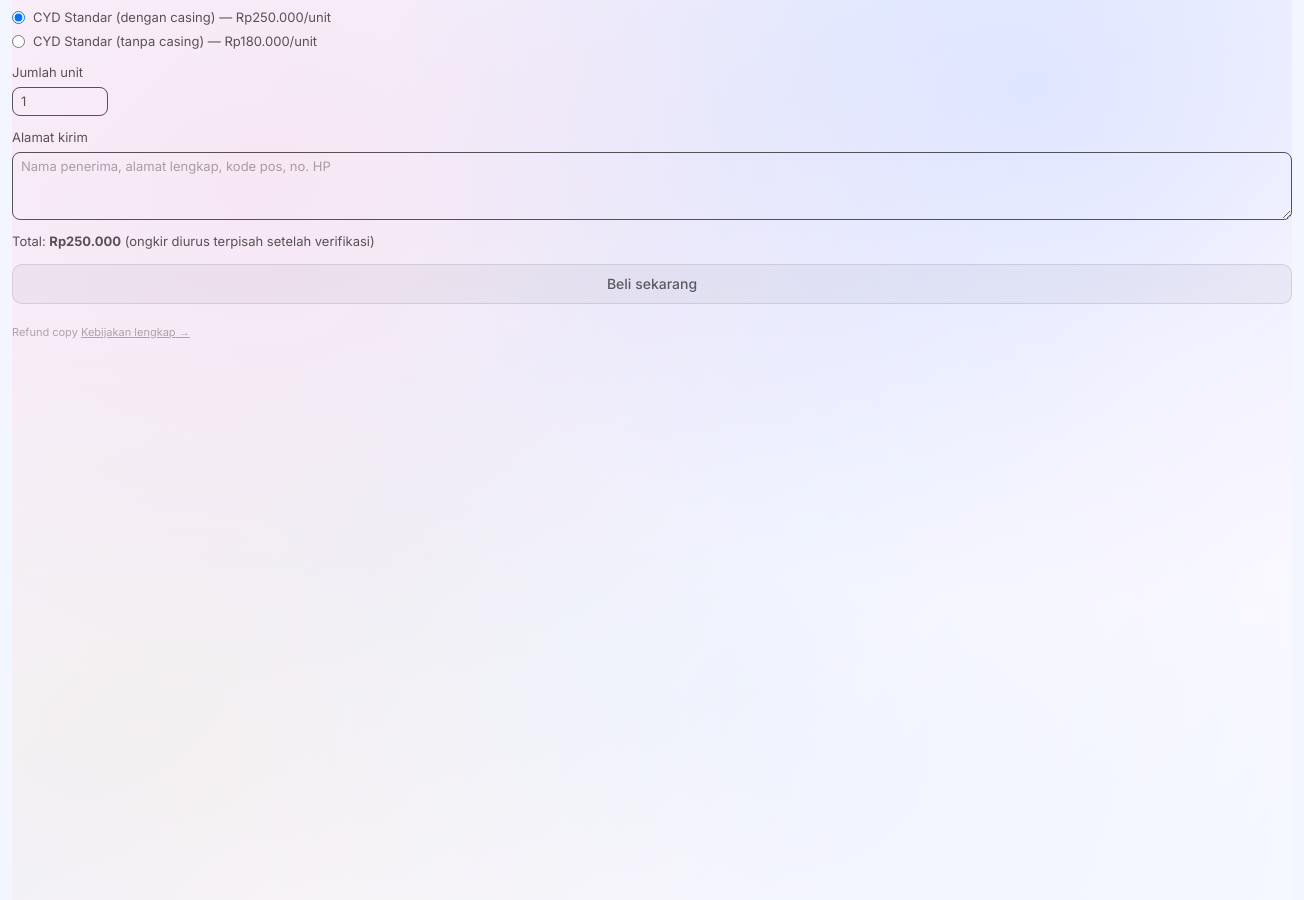
BeliCydCheckout › computes the live total from the selected variant and quantity
This screenshot has width=1304, height=900.
Step 1. Click the radio button labelled "CYD Standar (tanpa casing) — Rp180.000/unit" → [18, 41], box 12,35 -> 25,48
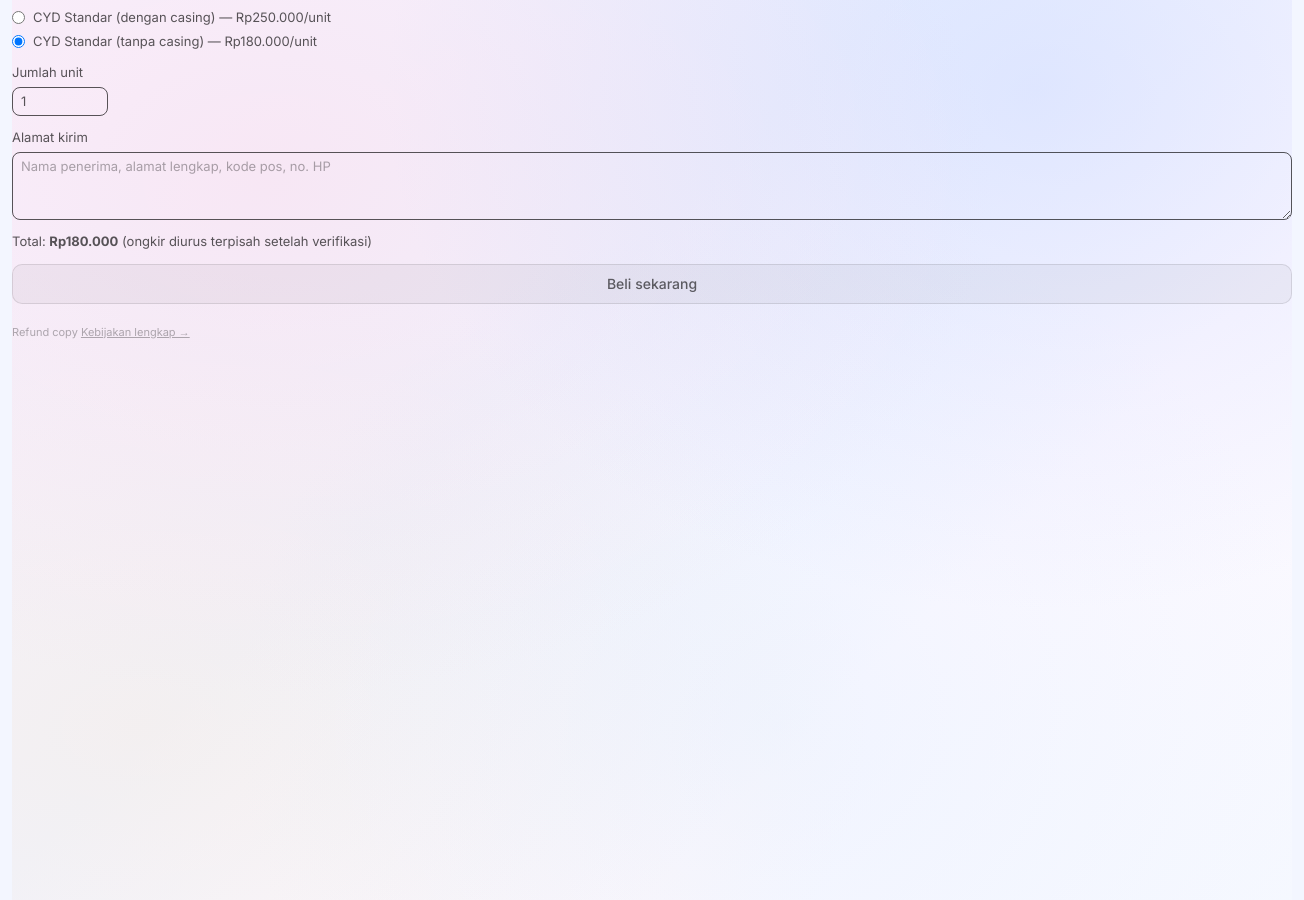
Step 2. Replace the text in the number field labelled "Jumlah unit" with "2" → [60, 101], box 12,86 -> 108,116
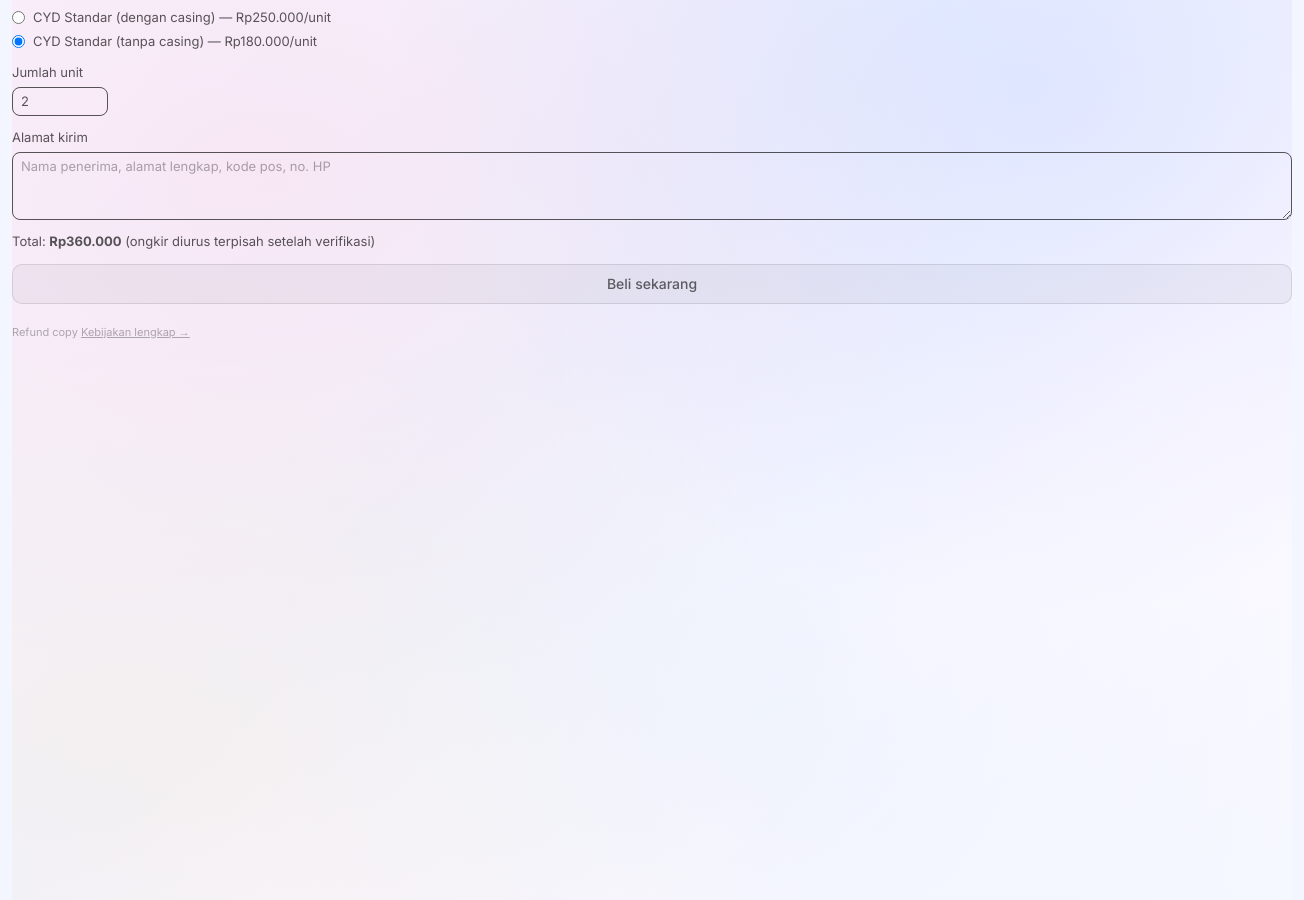
Now the text "Rp360.000" is shown, box 49,233 -> 122,249
